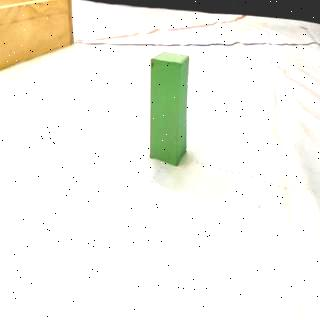greenbox: (149, 48, 191, 166)
